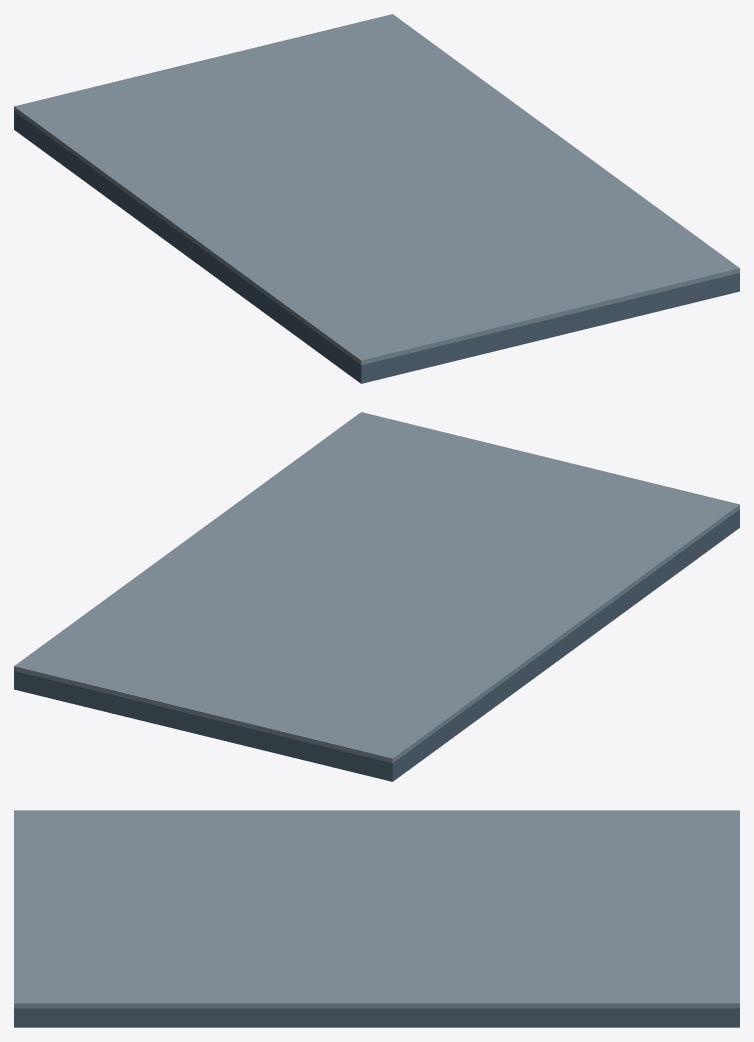
Rendered from TS-632.00.000-17-plita-dielektricheskaya-270x170.glb.
3 views of the same model, one above another, from view 1: azimuth 30°, elevation 25°; view 2: azimuth 150°, elevation 25°; view 3: azimuth 270°, elevation 25° (orthographic). The views are drawn at different scales.
Visible parts, largest first — view 1: prokladka, plita; view 2: prokladka, plita; view 3: prokladka, plita.
Boxes of the visible parts, x1,y1,x2,y2 form: prokladka: [14, 14, 739, 365]; plita: [14, 111, 739, 383]; prokladka: [14, 412, 739, 763]; plita: [14, 509, 739, 781]; prokladka: [14, 810, 739, 1008]; plita: [14, 1008, 739, 1027].
Size of the model in its own units: 170 by 10 by 270.
